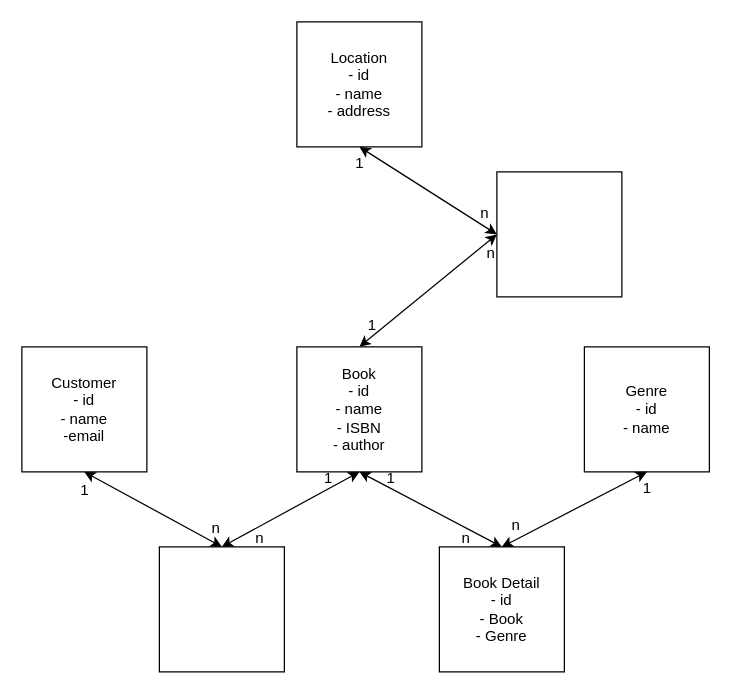
This 731x694 diagram has some shape labels left out. Each missing label, with the centre of its shape:
Borrow Detail - id - Customer - Book - isReturned - dateReturned: (x=221, y=609)
Stock Location - id - Book - Location - stock: (x=559, y=234)
